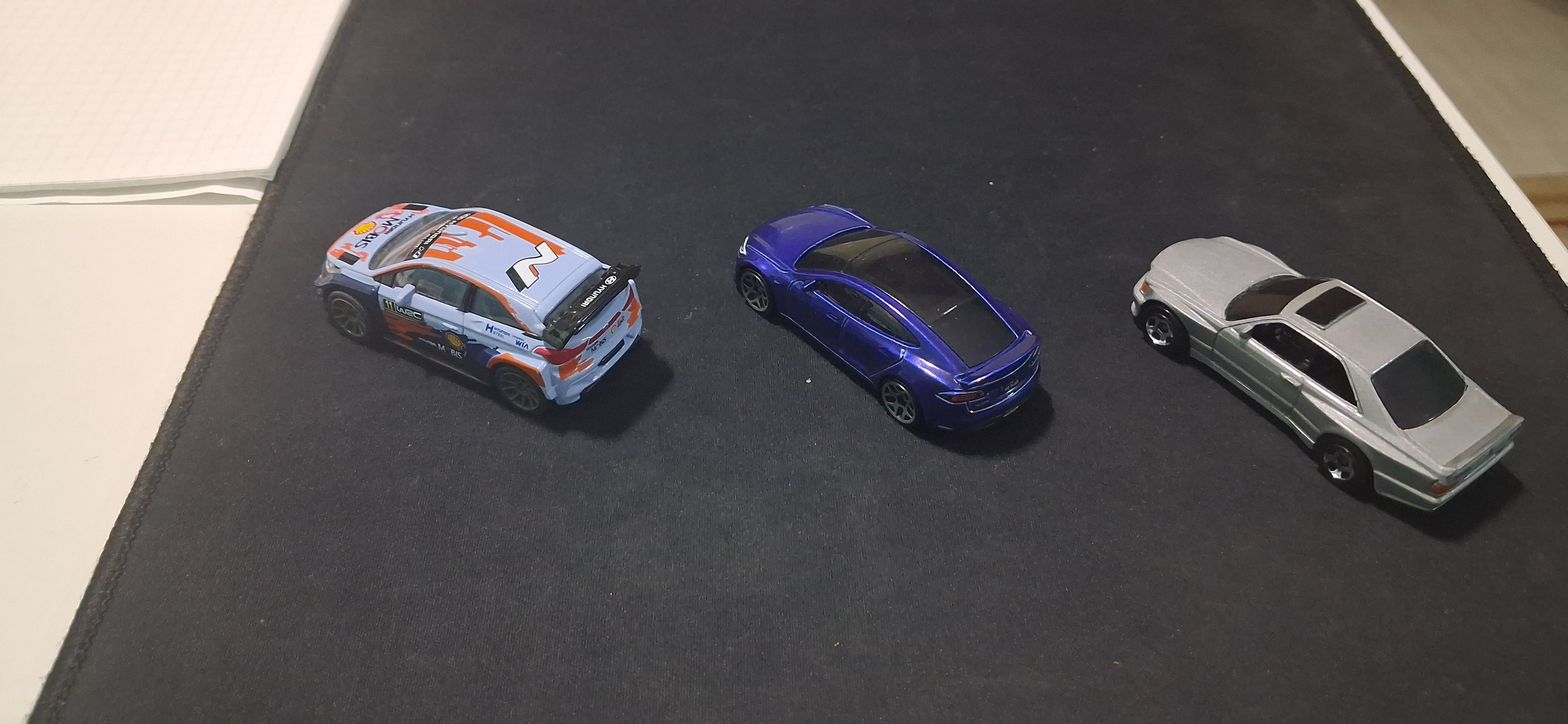Hyundai_I20_WRC: (297, 172, 651, 475)
Mercedes_Benz_560_SEC_AMG: (1100, 174, 1538, 555)
Tesla_Model_S_Plaid: (722, 187, 1072, 499)
